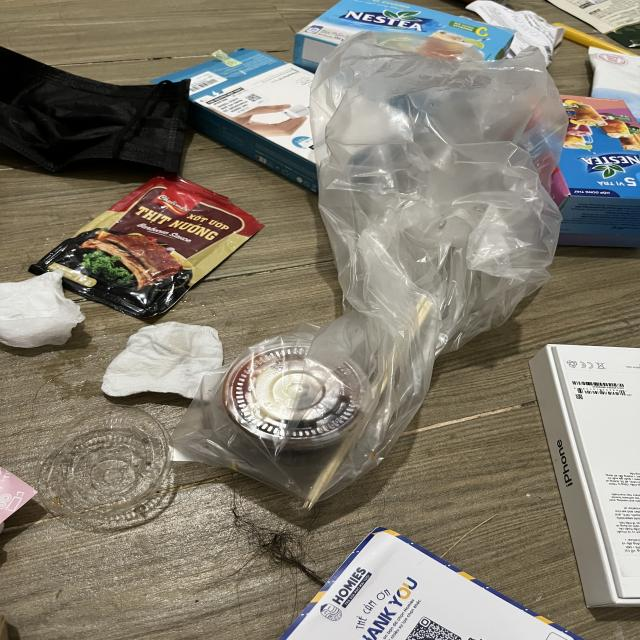cardboard box: (533, 346, 640, 610), (156, 47, 319, 192), (292, 0, 512, 76), (533, 96, 640, 248)
drinking straw: (553, 23, 640, 58)
lid: (27, 405, 172, 516)
mask: (0, 46, 193, 182)
napkin: (100, 321, 222, 402), (0, 269, 86, 353)
packet: (28, 174, 265, 324)
paper: (277, 527, 583, 640), (462, 0, 566, 60)
trash bag: (170, 27, 566, 522)
